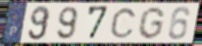6: (167, 6, 191, 41)
7: (87, 5, 110, 42)
9: (26, 5, 52, 42), (56, 6, 80, 41)
C: (109, 8, 137, 40)
G: (136, 6, 166, 41)
